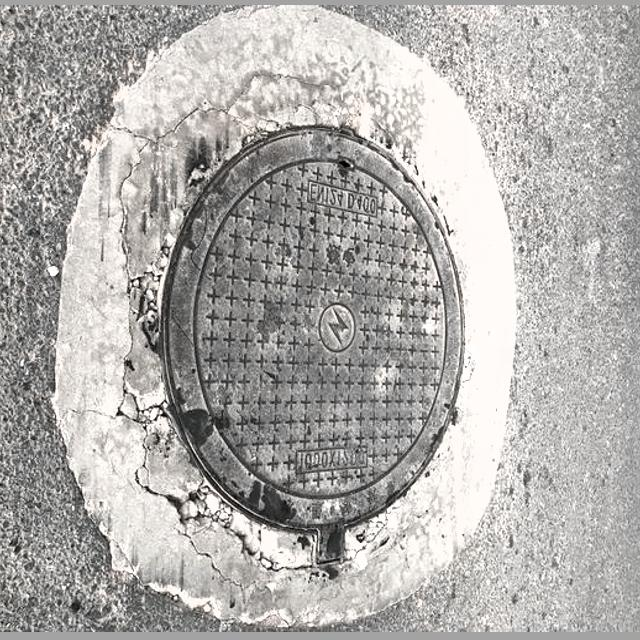circle: (56, 22, 514, 619)
